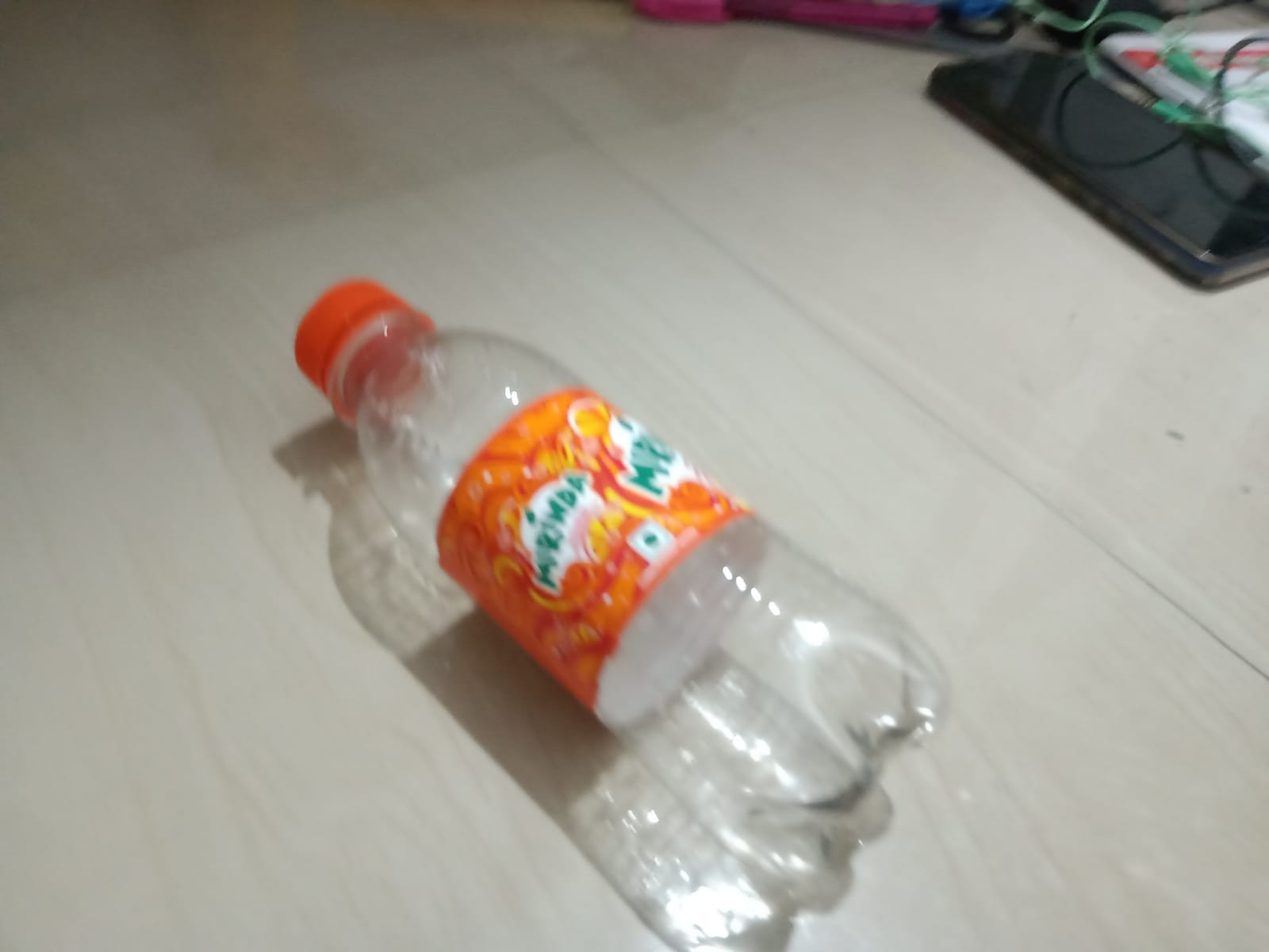plastic: (151, 278, 1027, 878)
